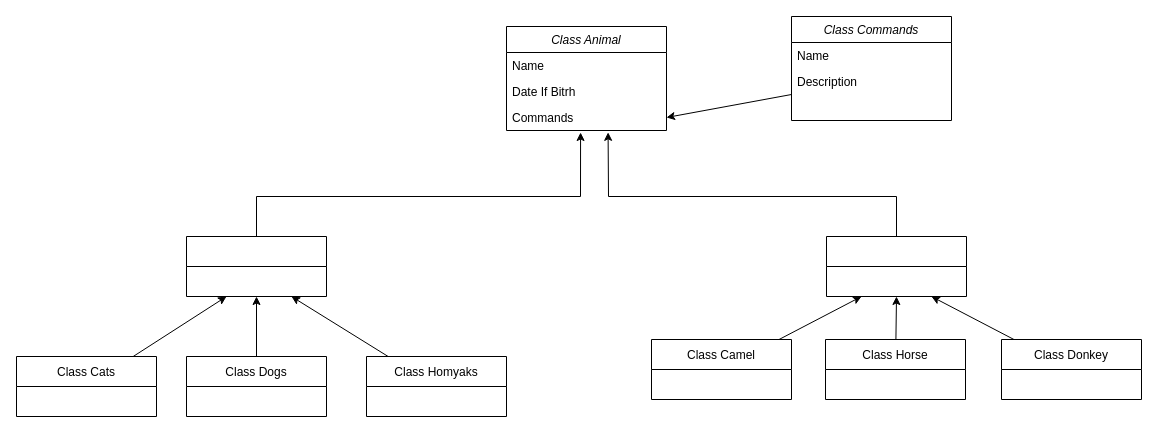
Some shapes in this 1158 by 433 pixel diagram are drawn without their labels. The centre of each missing label's shape, as x and y in pixels:
Class Home Animals: the point at 256,266
Class Pack Animals: the point at 896,266
